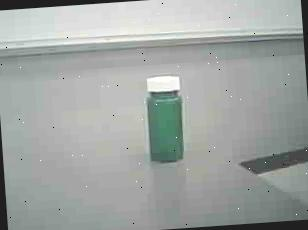Bottle C: (137, 70, 194, 166)
